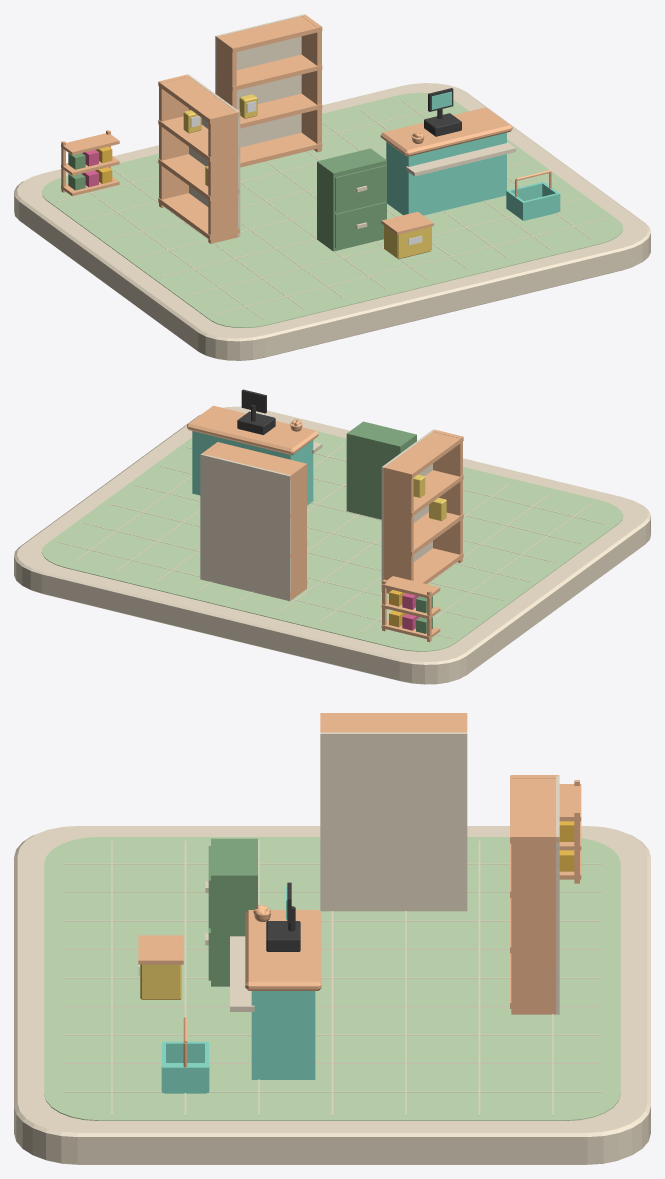
The picture shows the model from 3 angles, top to bottom: view 1: azimuth 30°, elevation 25°; view 2: azimuth 150°, elevation 25°; view 3: azimuth 270°, elevation 25°; orthographic projection. The views are drawn at different scales.
Parts seen in each view (by area): view 1: COM-02 Floor Surface, COM-01 Rounded Base Direct, Counter body, Cabinet, Back.001, Side.001, Countertop, Side, Side.003, Shelf.007, Shelf.006, Shelf.003 (+14 smaller); view 2: COM-02 Floor Surface, COM-01 Rounded Base Direct, Back.001, Cabinet, Side, Countertop, Side.002, Side.001, Counter body, Shelf.003, Shelf.007, Shelf.001 (+6 smaller); view 3: COM-02 Floor Surface, COM-01 Rounded Base Direct, Back, Side.003, Counter body, Cabinet, Countertop, Shelf.007, Shelf.003, Box, Lid, Visitor shelf (+10 smaller).
Boxes of the visible parts, x1,y1,x2,y2 form: COM-02 Floor Surface: (41,92,622,327); COM-01 Rounded Base Direct: (14,83,650,360); Counter body: (386,132,506,215); Cabinet: (317,148,386,251); Back.001: (215,14,305,147); Side.001: (208,110,238,243); Countertop: (380,107,512,156); Side: (159,74,188,207); Side.003: (301,15,321,152); Shelf.007: (215,16,322,52); Shelf.006: (215,54,322,91); Shelf.003: (158,77,239,123); COM-02 Floor Surface: (41,431,623,651); COM-01 Rounded Base Direct: (14,406,650,684); Back.001: (200,454,291,601); Cabinet: (346,421,416,519); Side: (384,465,413,593); Countertop: (187,405,318,454); Side.002: (287,463,306,600); Side.001: (433,430,462,562); Counter body: (192,431,313,505); Shelf.003: (382,432,463,478); Shelf.007: (206,442,307,480); Shelf.001: (384,512,463,555); COM-02 Floor Surface: (44,837,620,1120); COM-01 Rounded Base Direct: (14,826,650,1164); Back: (320,732,467,911); Side.003: (511,834,557,1014); Counter body: (251,991,315,1079); Cabinet: (205,838,257,986); Countertop: (245,910,321,990); Shelf.007: (510,775,558,843); Shelf.003: (320,713,466,732); Box: (140,964,181,999); Lid: (138,935,183,964); Visitor shelf: (230,936,254,1011).
Bounding box in the file's own units: 6 × 1.9 × 5.2.
1 material, 1 textured.
